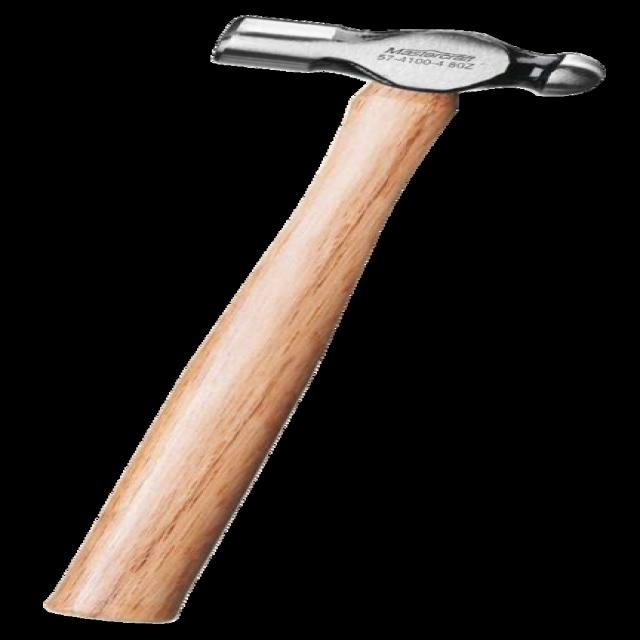hammer: (17, 11, 632, 628)
